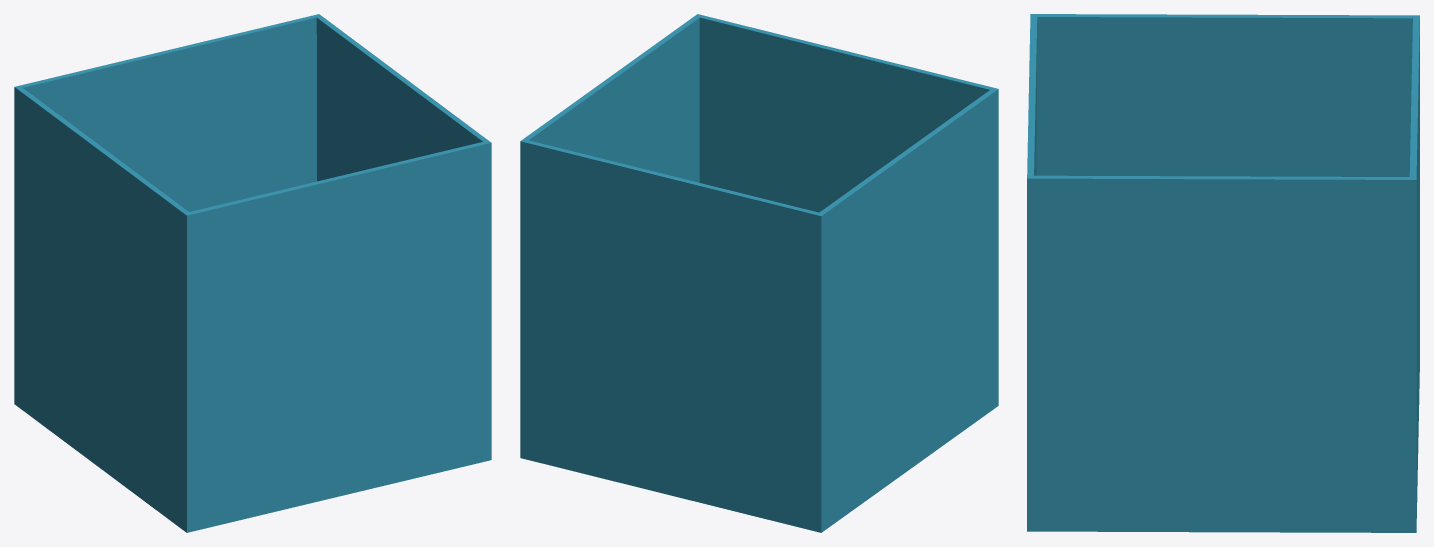
Rendered from Blue_trashbin.dae.
The picture shows the model from 3 angles, left to right: view 1: azimuth 30°, elevation 25°; view 2: azimuth 150°, elevation 25°; view 3: azimuth 270°, elevation 25°; orthographic projection. The views are drawn at different scales.
Parts seen in each view (by area): view 1: BlueToyTrashbin_mesh; view 2: BlueToyTrashbin_mesh; view 3: BlueToyTrashbin_mesh.
Boxes of the visible parts, box(x1,y1,x2,y2) form: BlueToyTrashbin_mesh: box(14, 14, 491, 532); BlueToyTrashbin_mesh: box(520, 14, 998, 532); BlueToyTrashbin_mesh: box(1027, 14, 1419, 532).
Bounding box in the file's own units: 0.2794 × 0.2794 × 0.277.
